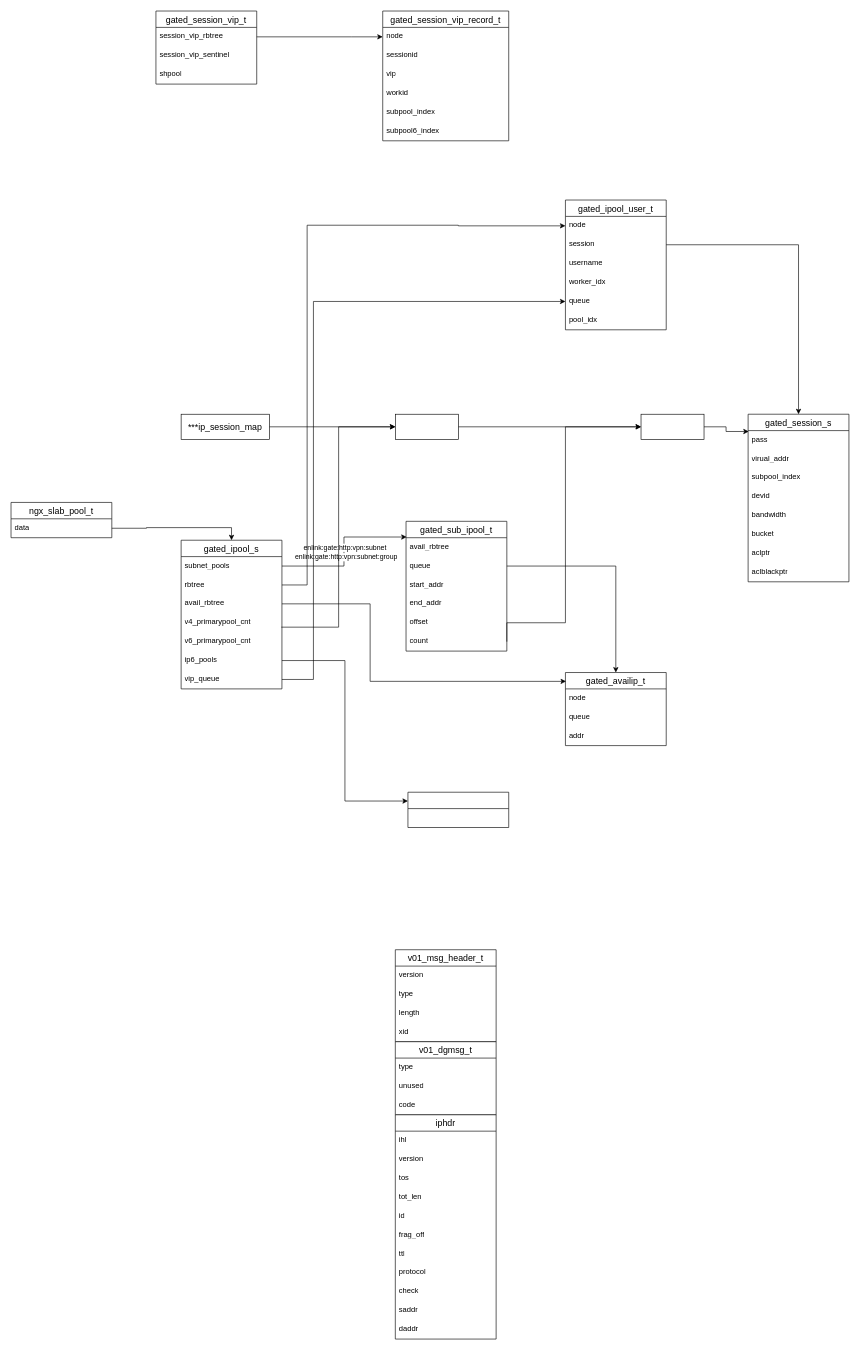
The diagram is 860 pixels wide and 1352 high, and some of its shapes have lost their labels. The centre of each missing label's shape, as x and y in pixels:
"in6_addr" goes at [458,810].
"void *" goes at [672,426].
"void **" goes at [426,426].
